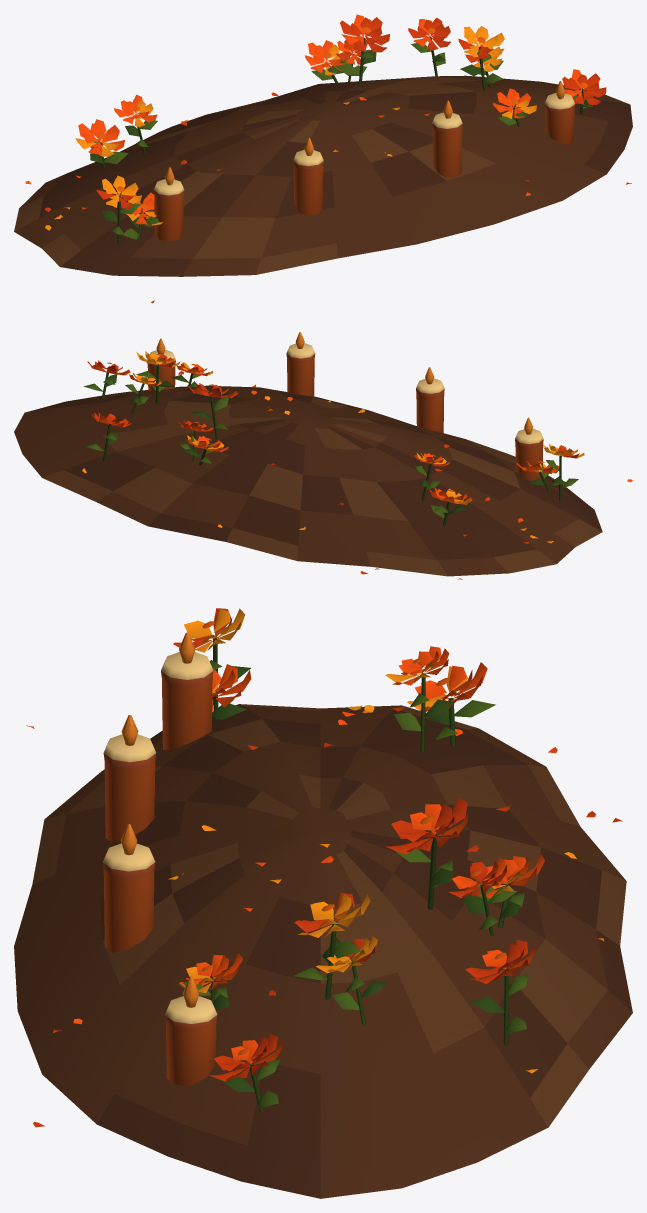
The model's file is monticulo_petalo.obj.
3 renders of one model, top to bottom at view 1: azimuth 30°, elevation 25°; view 2: azimuth 150°, elevation 25°; view 3: azimuth 270°, elevation 25°, orthographic. The views are drawn at different scales.
Parts seen in each view (by area): view 1: monticulo_petalo; view 2: monticulo_petalo; view 3: monticulo_petalo.
Boxes of the visible parts, left/top/right/bottom form: monticulo_petalo: left=14, top=14, right=632, bottom=303; monticulo_petalo: left=14, top=332, right=632, bottom=579; monticulo_petalo: left=14, top=608, right=632, bottom=1198.
Bounding box in the file's own units: 2.23 × 0.4107 × 1.18.
